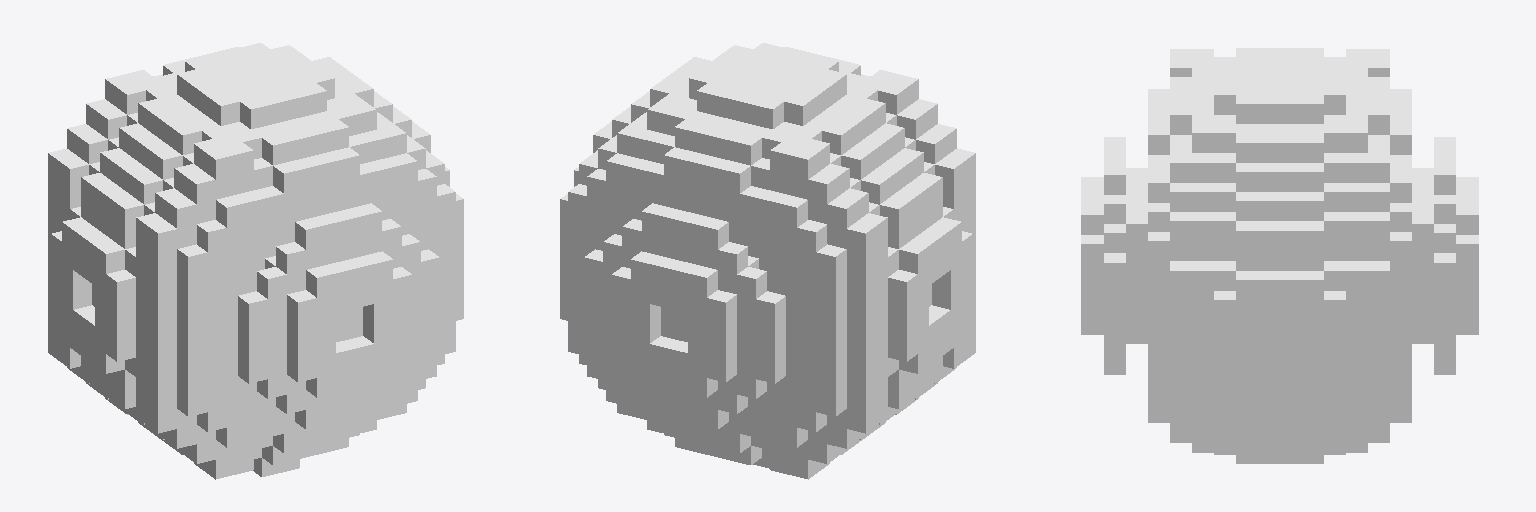
File: PlayerSphereBody.obj
The picture shows the model from 3 angles: view 1: azimuth 30°, elevation 25°; view 2: azimuth 150°, elevation 25°; view 3: azimuth 270°, elevation 25°; orthographic projection.
Visible parts, largest first — view 1: object 1; view 2: object 1; view 3: object 1.
Boxes of the visible parts, x1=… form: object 1: x1=48, y1=43, x2=463, y2=479; object 1: x1=560, y1=43, x2=975, y2=479; object 1: x1=1081, y1=48, x2=1478, y2=463.
Size of the model in its own units: 1.8 by 1.8 by 1.8.